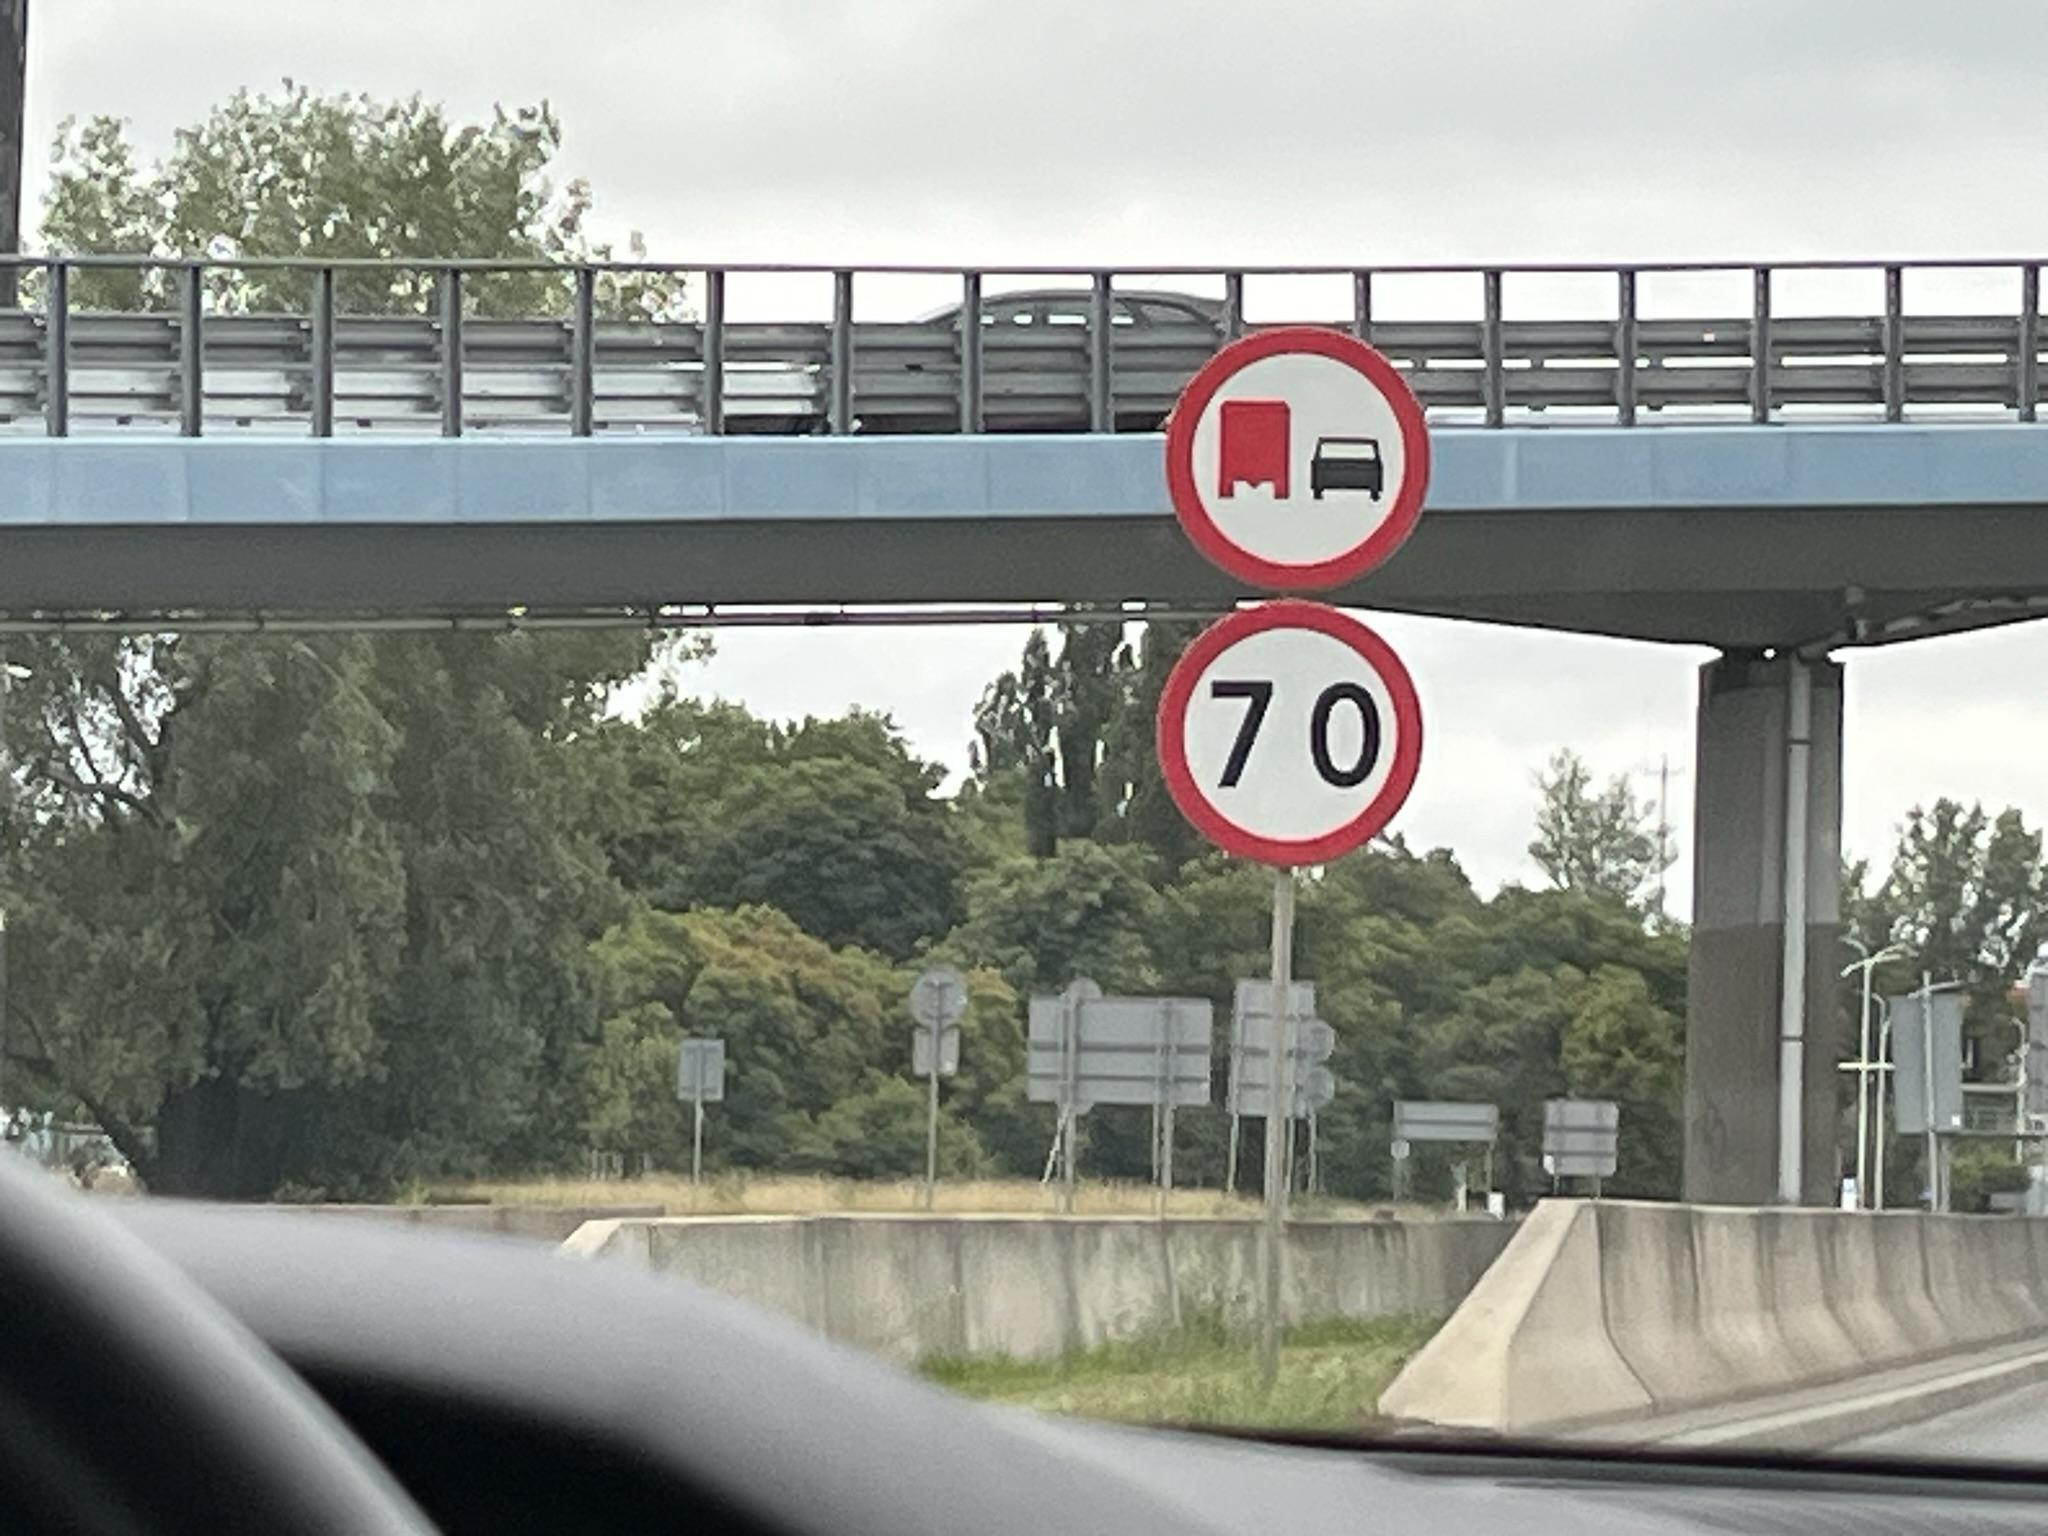prohibitory: (1162, 322, 1432, 596), (1156, 598, 1424, 870)
